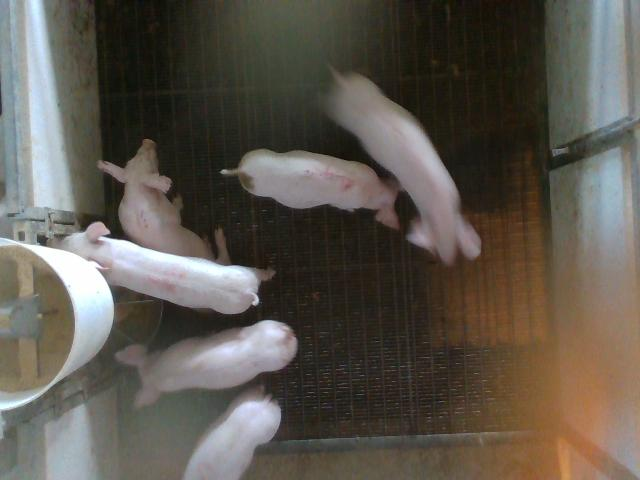pig-4: (60, 222, 272, 313)
pig-5: (221, 149, 399, 228)
